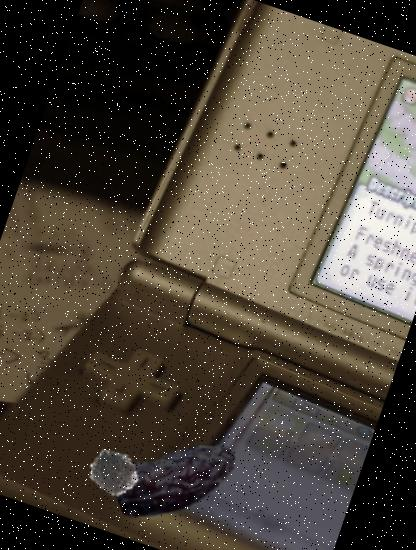Dates: (96, 400, 256, 550)
Rambutan: (81, 440, 148, 508)
